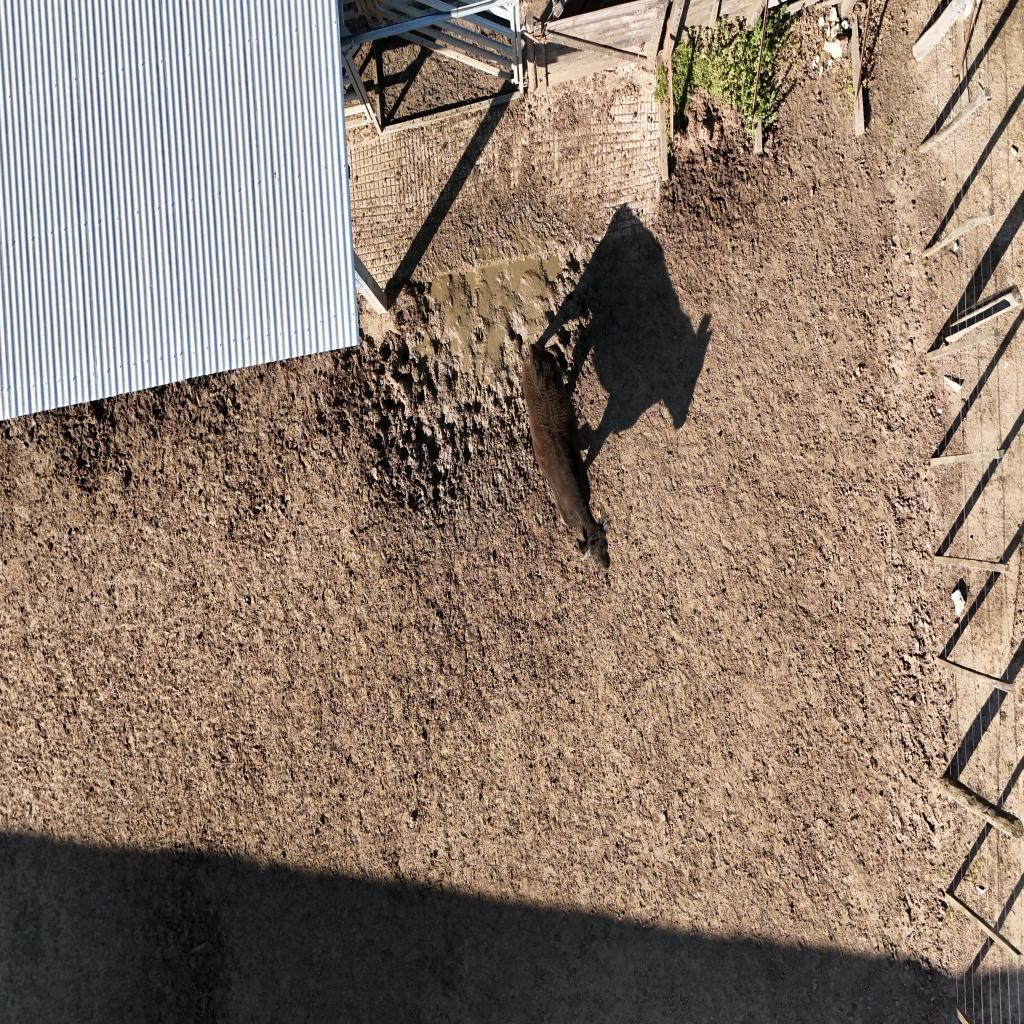cow: (510, 338, 619, 574)
